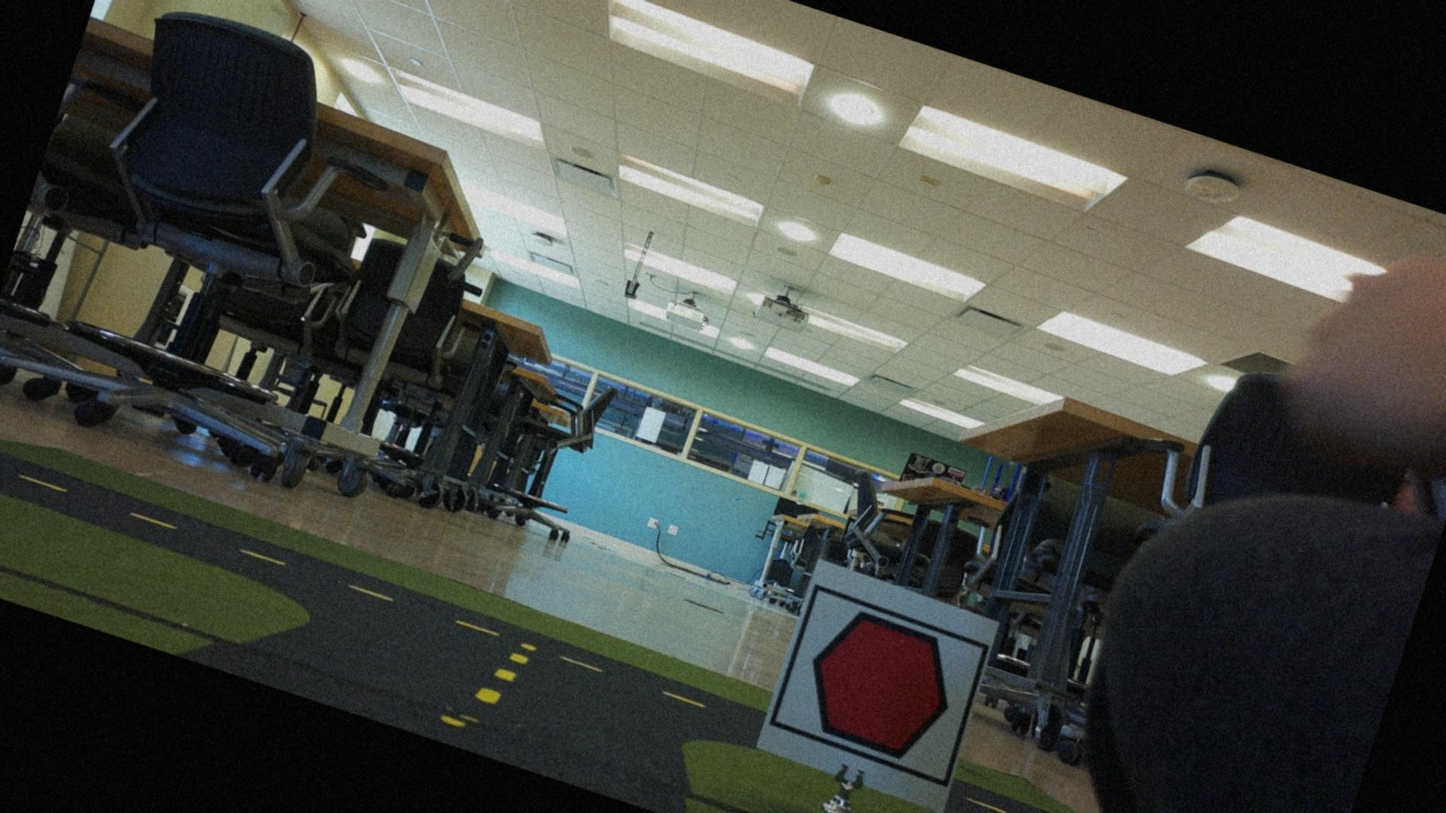stop: (776, 590, 980, 779)
yellowline: (440, 635, 529, 744)
